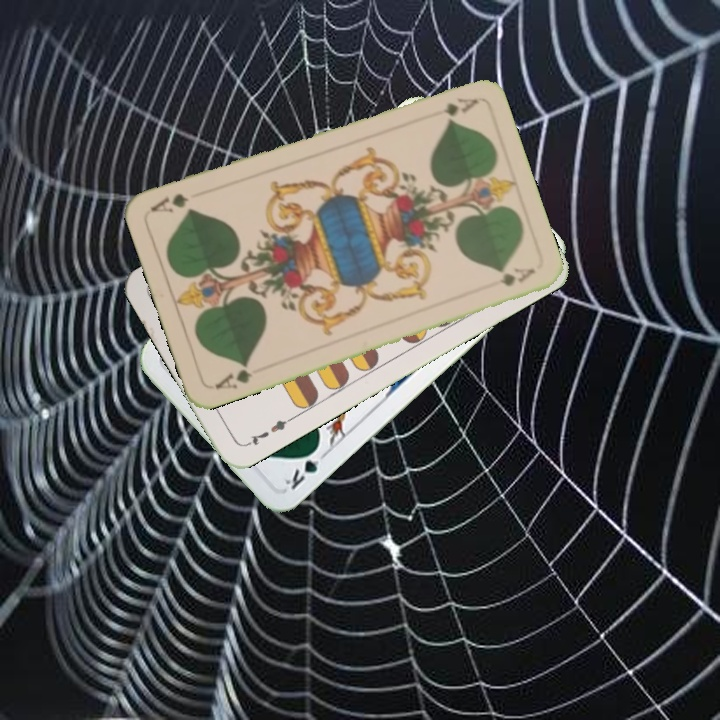E7: (240, 413, 295, 449)
GA: (423, 93, 481, 121), (211, 359, 254, 392)
GK: (280, 442, 330, 493)
